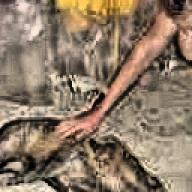boar: (0, 115, 168, 192)
